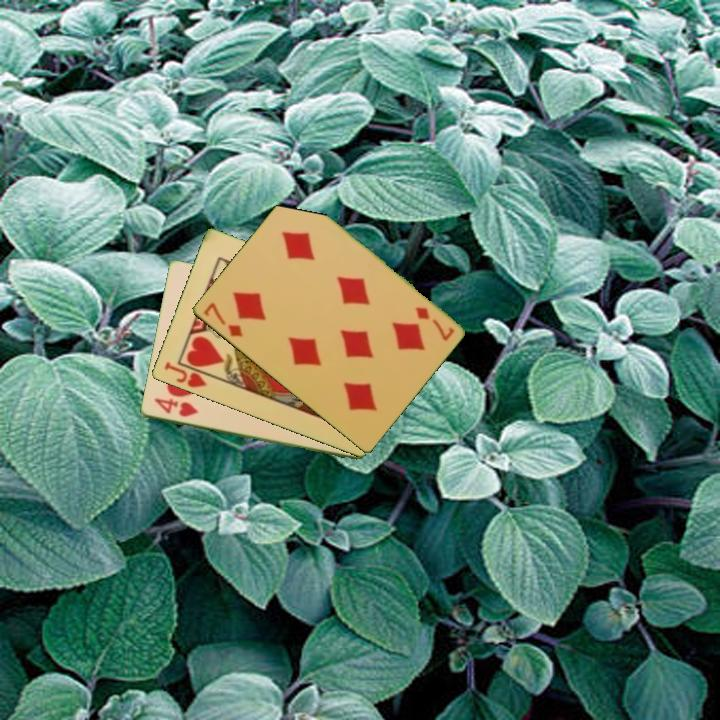4h: (150, 395, 200, 420)
7d: (411, 303, 457, 344), (200, 299, 245, 340)
Jh: (160, 358, 209, 391)
